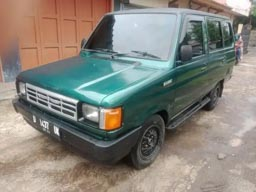plat: (31, 115, 61, 143)
